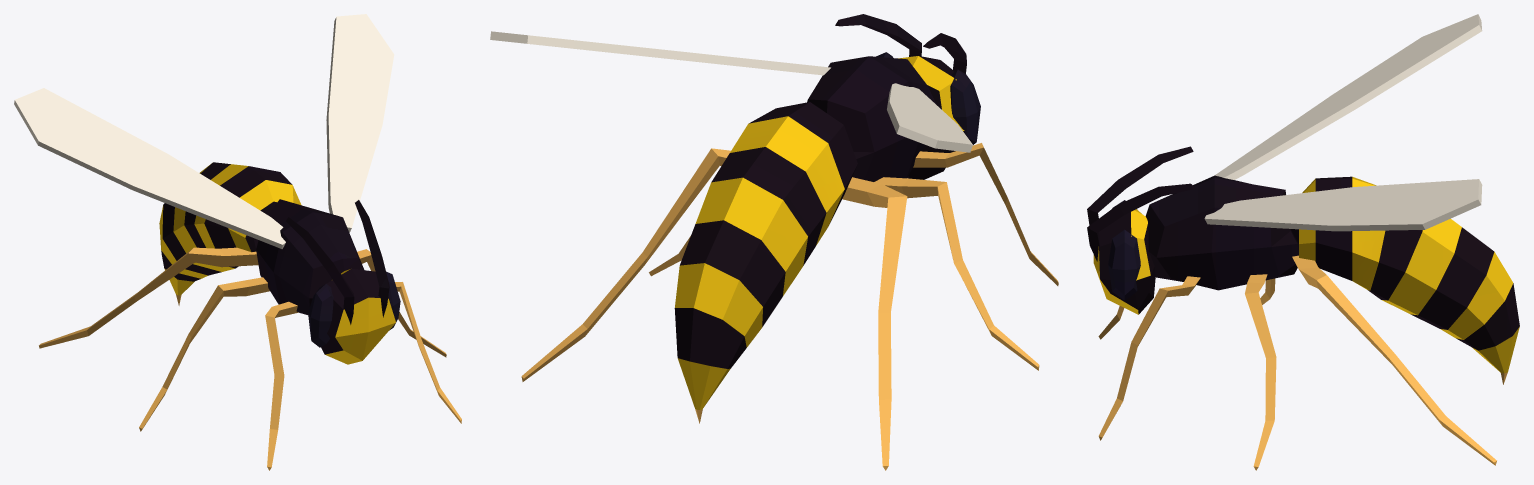
File: 4UdWQxbm0-B.glb
3 views of the same model, side by side, from view 1: azimuth 30°, elevation 25°; view 2: azimuth 150°, elevation 25°; view 3: azimuth 270°, elevation 25° (orthographic). The views are drawn at different scales.
Parts seen in each view (by area): view 1: Geo_Wasp; view 2: Geo_Wasp; view 3: Geo_Wasp.
Part boxes in pixels (<box>): Geo_Wasp: <box>14,14,461,470</box>; Geo_Wasp: <box>490,14,1058,470</box>; Geo_Wasp: <box>1087,14,1519,470</box>.
Bounding box in the file's own units: 1.39 × 1 × 1.36.
Materials: 2 (1 with a texture image).
